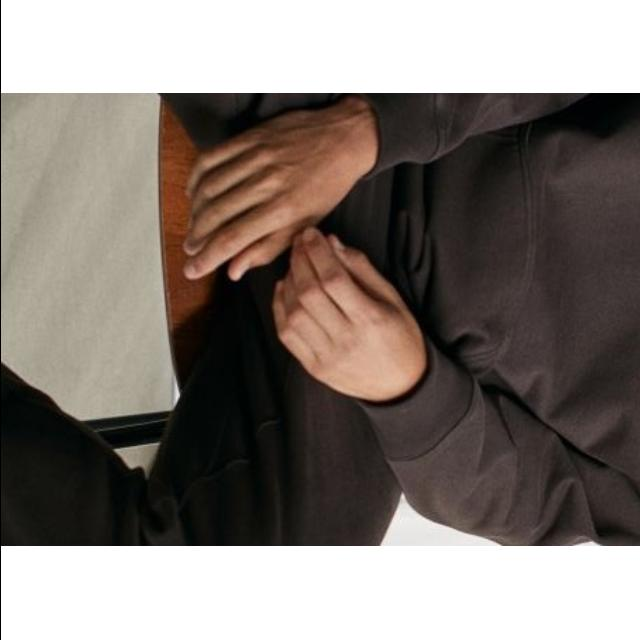cotton: (396, 94, 640, 546)
